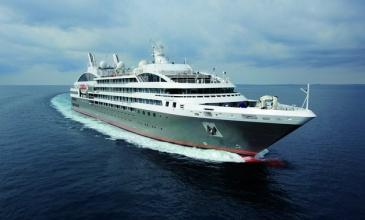youlun: (67, 41, 316, 155)
